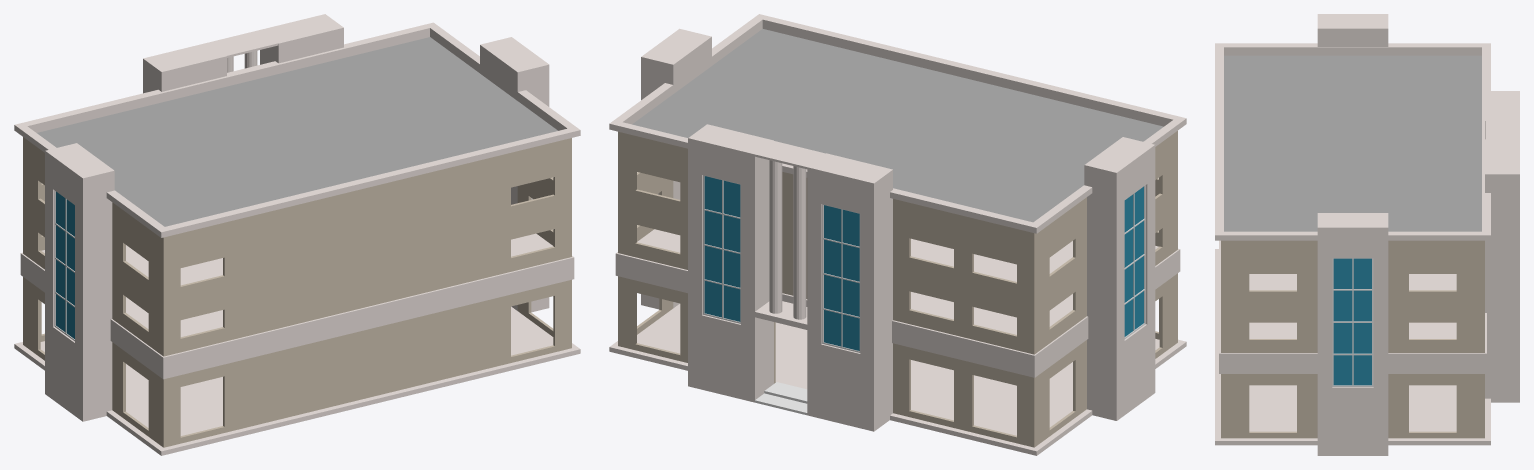
File: School.obj
3 renders of one model, left to right at view 1: azimuth 30°, elevation 25°; view 2: azimuth 150°, elevation 25°; view 3: azimuth 270°, elevation 25°, orthographic. The views are drawn at different scales.
Visible parts, largest first — view 1: School; view 2: School; view 3: School.
Part boxes in pixels (box(x1,y1,x2,y2)): School: box(14, 14, 580, 455); School: box(609, 14, 1186, 455); School: box(1215, 14, 1519, 455).
Bounding box in the file's own units: 102 × 50.69 × 61.32.
